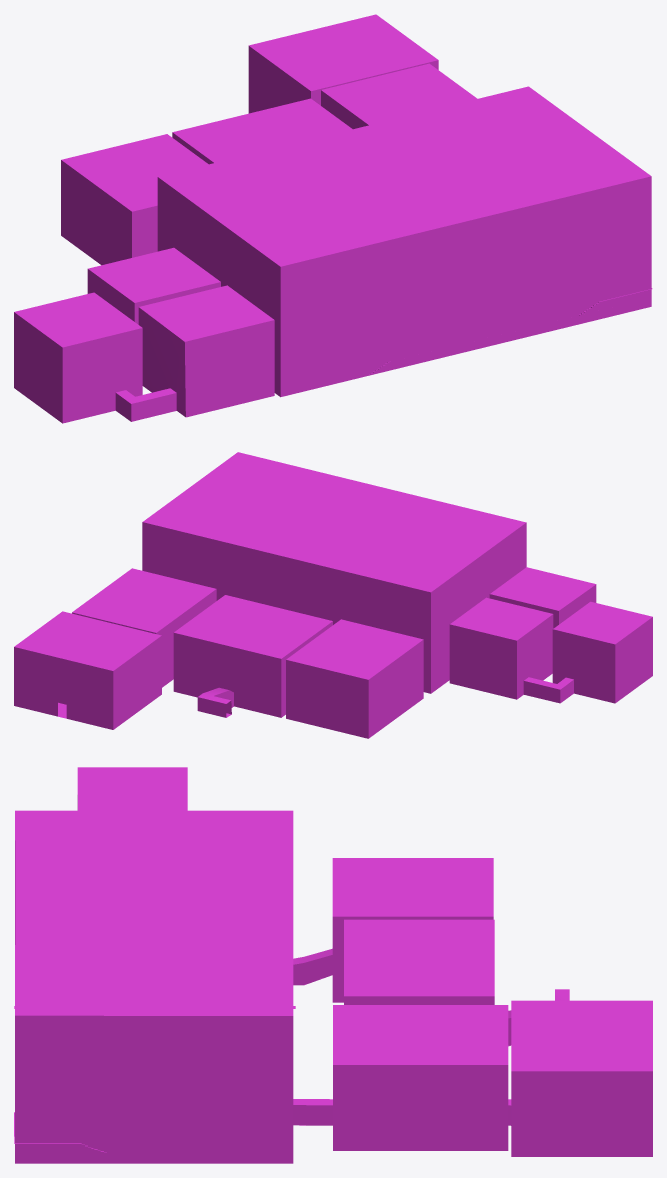
The model's file is Zone6_Map.fbx.
3 renders of one model, top to bottom at view 1: azimuth 30°, elevation 25°; view 2: azimuth 150°, elevation 25°; view 3: azimuth 270°, elevation 25°, orthographic. The views are drawn at different scales.
Visible parts, largest first — view 1: Zone6MAP; view 2: Zone6MAP; view 3: Zone6MAP.
Boxes of the visible parts, left/top/right/bottom form: Zone6MAP: left=14, top=14, right=652, bottom=423; Zone6MAP: left=14, top=452, right=652, bottom=738; Zone6MAP: left=14, top=767, right=652, bottom=1163.
Bounding box in the file's own units: 7282 × 1604 × 6270.
